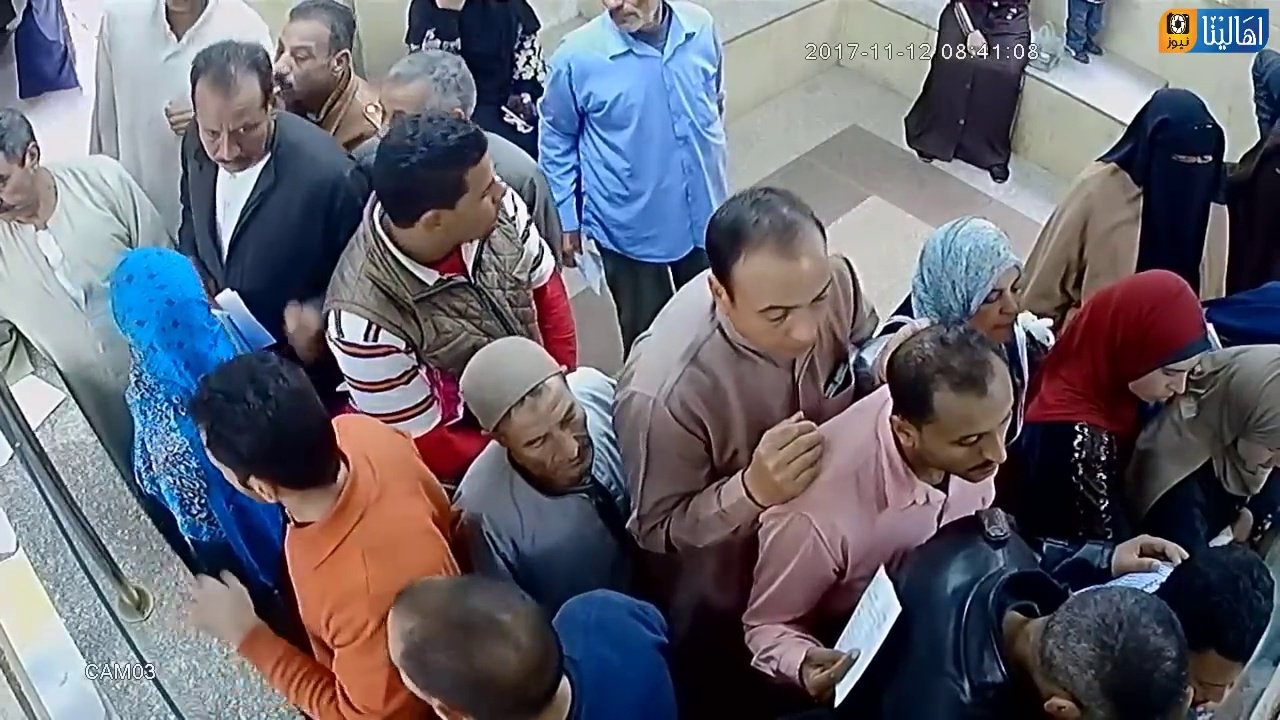face: (744, 257, 832, 356), (503, 408, 591, 486), (932, 396, 1006, 484), (191, 98, 272, 171), (1138, 337, 1207, 419), (272, 25, 333, 100), (450, 165, 507, 238), (974, 266, 1027, 339), (1167, 136, 1215, 197)
